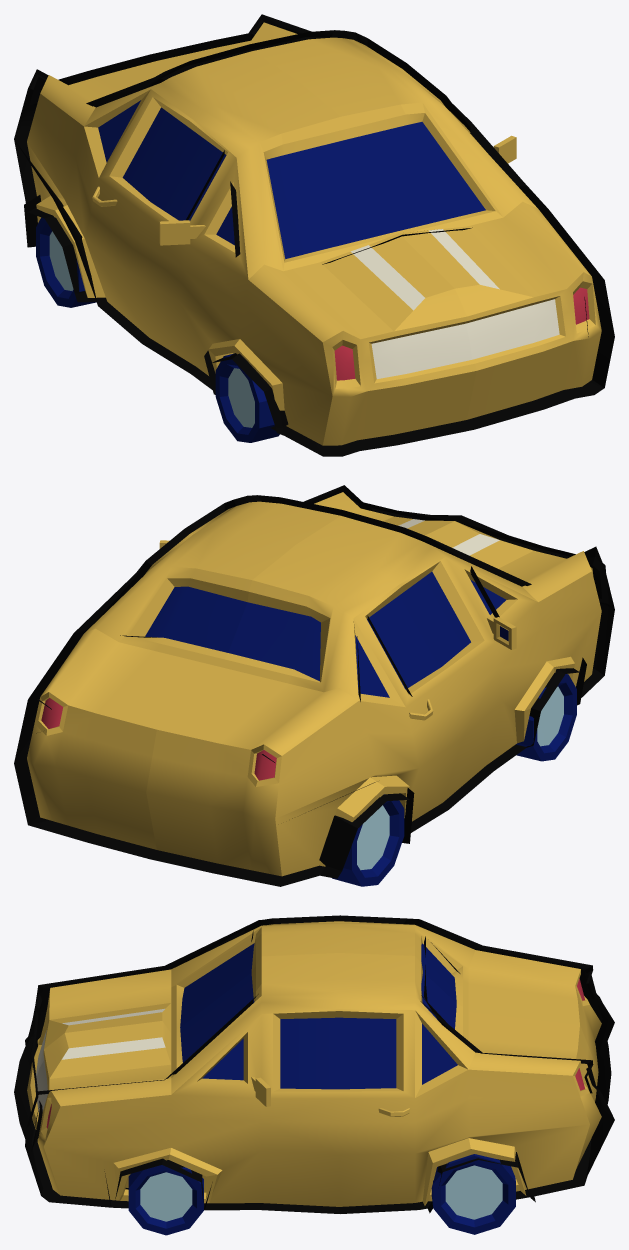
Rendered from EnemyCar.fbx.
3 renders of one model, top to bottom at view 1: azimuth 30°, elevation 25°; view 2: azimuth 150°, elevation 25°; view 3: azimuth 270°, elevation 25°, orthographic. The views are drawn at different scales.
Parts seen in each view (by area): view 1: Body, Outline, pCylinder4, pCylinder3, Mirror1; view 2: Body, Outline, pCylinder3, pCylinder4, Mirror1; view 3: Body, Outline, pCylinder2, pCylinder1.
Boxes of the visible parts, left/top/right/bottom form: Body: left=27, top=22, right=601, bottom=445; Outline: left=14, top=14, right=614, bottom=456; pCylinder4: left=215, top=353, right=279, bottom=442; pCylinder3: left=36, top=217, right=96, bottom=307; Mirror1: left=159, top=220, right=205, bottom=245; Body: left=27, top=492, right=601, bottom=876; Outline: left=14, top=485, right=614, bottom=886; pCylinder3: left=332, top=794, right=404, bottom=886; pCylinder4: left=516, top=674, right=576, bottom=761; Mirror1: left=487, top=616, right=516, bottom=649; Body: left=27, top=921, right=601, bottom=1206; Outline: left=14, top=915, right=614, bottom=1213; pCylinder2: left=431, top=1154, right=515, bottom=1234; pCylinder1: left=128, top=1165, right=203, bottom=1235.
Size of the model in its own units: 3.68 by 2.51 by 6.22.
